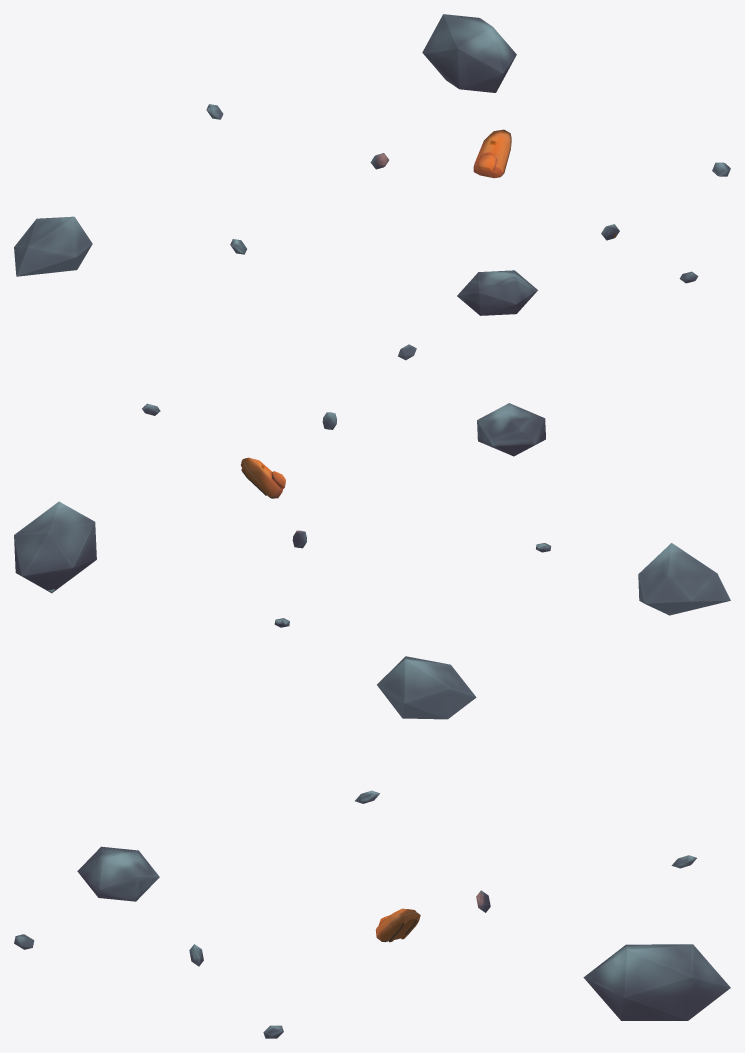
File: pcube6_lambert7_0_lev2.glb
3 views of the same model, one above another, from view 1: azimuth 30°, elevation 25°; view 2: azimuth 150°, elevation 25°; view 3: azimuth 270°, elevation 25° (orthographic). The views are drawn at different scales.
Visible parts, largest first — view 1: pcube6_lambert7_0_lev2; view 2: pcube6_lambert7_0_lev2; view 3: pcube6_lambert7_0_lev2.
Part boxes in pixels (left/top/right/bottom): pcube6_lambert7_0_lev2: left=14, top=14, right=730, bottom=315; pcube6_lambert7_0_lev2: left=14, top=344, right=730, bottom=627; pcube6_lambert7_0_lev2: left=14, top=656, right=730, bottom=1038.
Size of the model in its own units: 18.69 by 2.17 by 16.13.
1 material, 1 textured.
